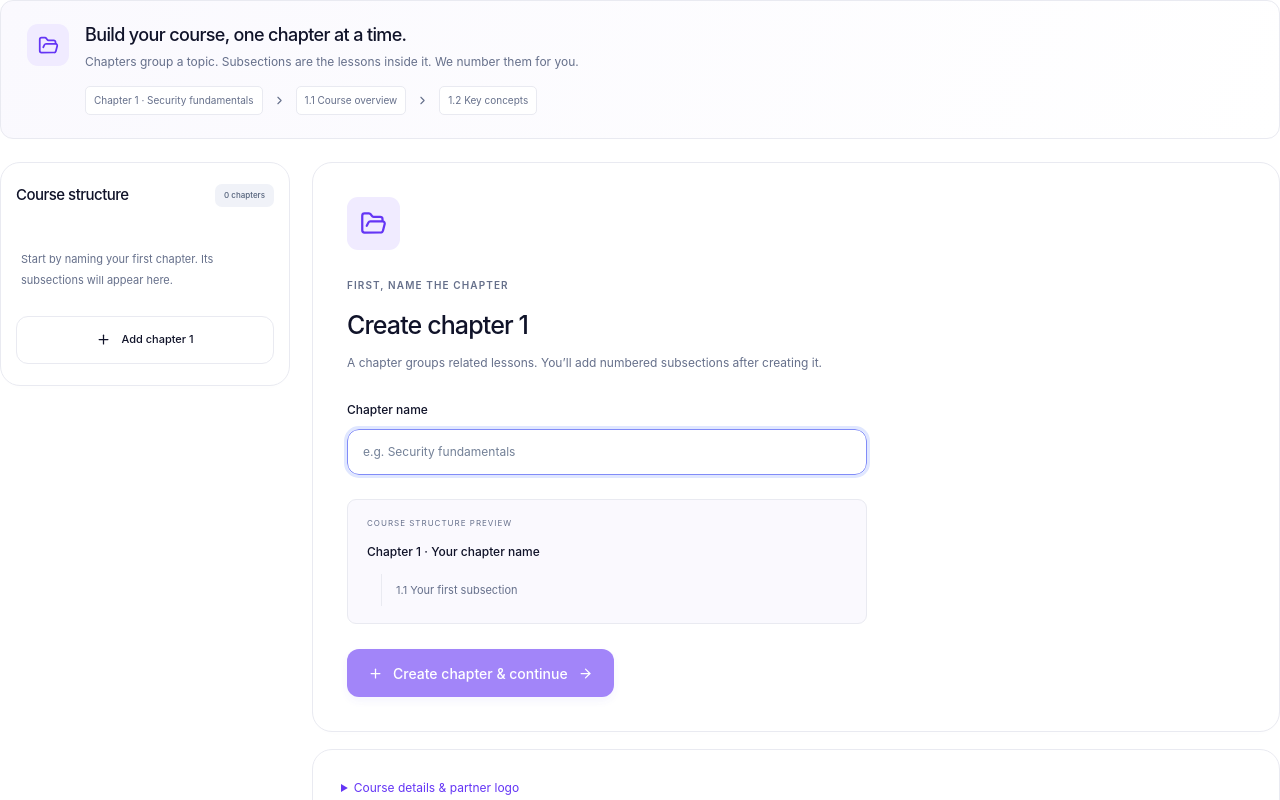
Test: chapter-first curriculum authoring › asks only for the chapter name, then creates a chapter ready for subsections
The image size is (1280, 800).
Expected: the heading "Create chapter 1" is shown, [347,310,528,340]
Expected: the button "Create chapter & continue" is disabled, [347,649,614,697]
In the field labelled "Chapter name": [607, 452] box [347,429,867,475], type "Security fundamentals"
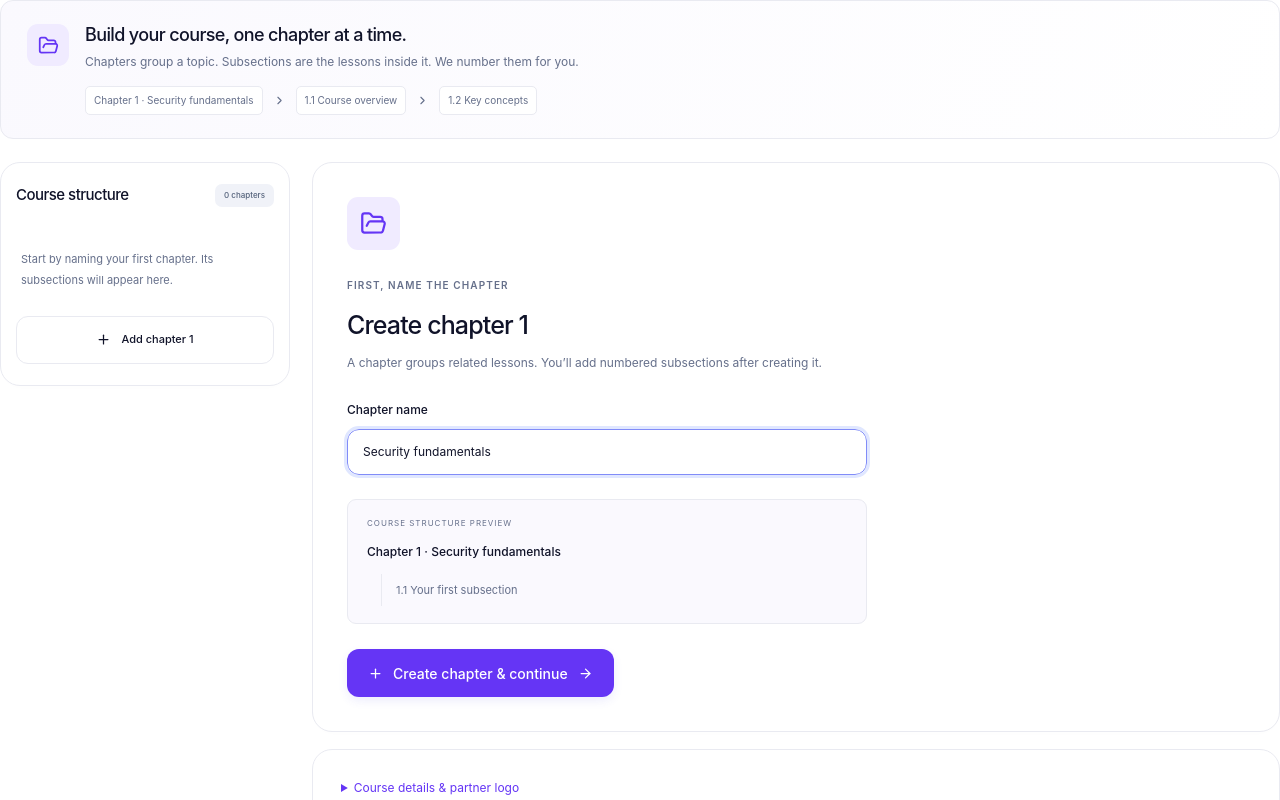
Click the button "Create chapter & continue": [480, 673] box [347,649,614,697]
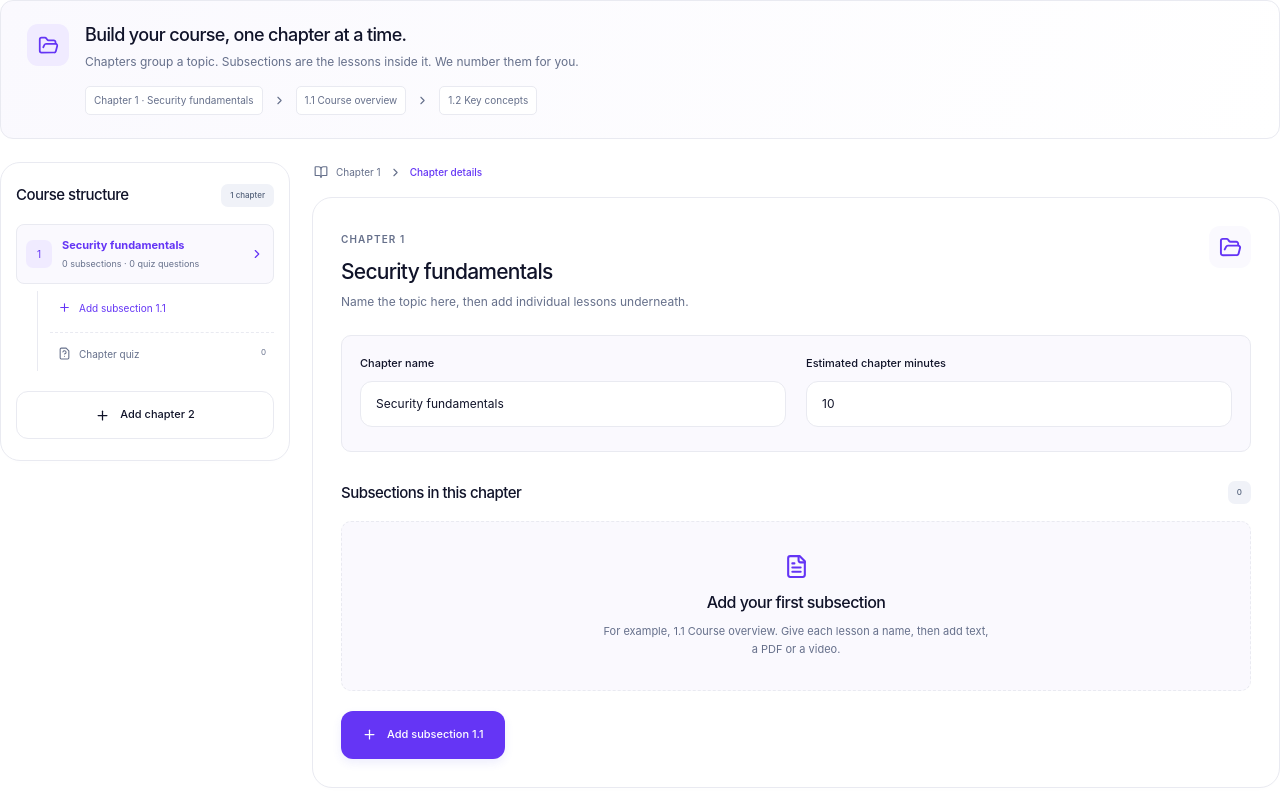
Expected: the heading "Subsections in this chapter" is shown, [341,484,521,502]
Expected: the heading "Add your first subsection" is shown, [707,592,885,612]
Expected: the number of buttons "Add subsection 1.1" is 2, [50,291,274,325]; [341,711,505,759]
